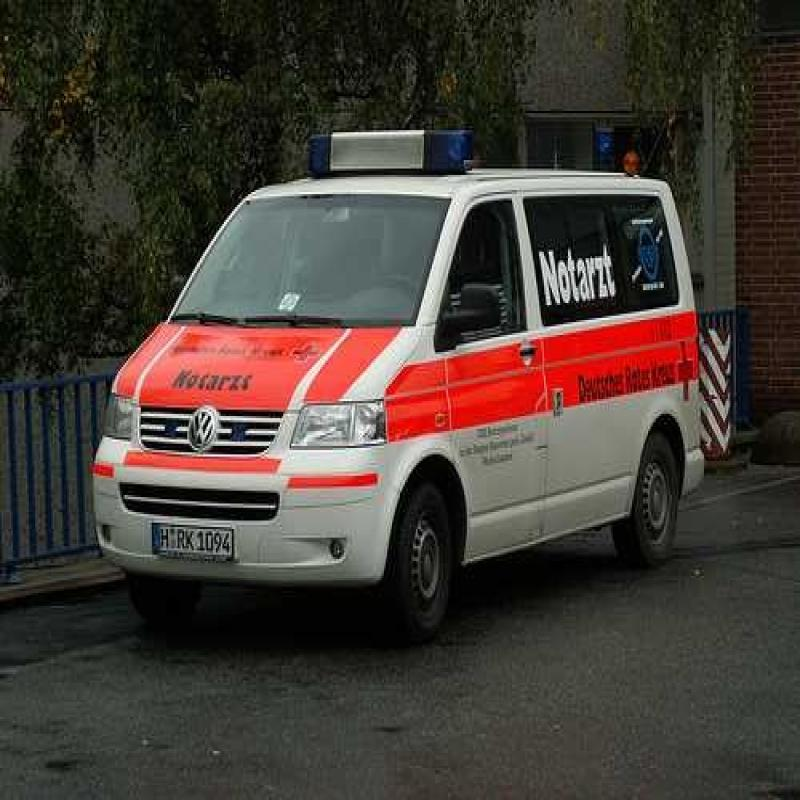AmbulanceSiren: (285, 103, 494, 190)
